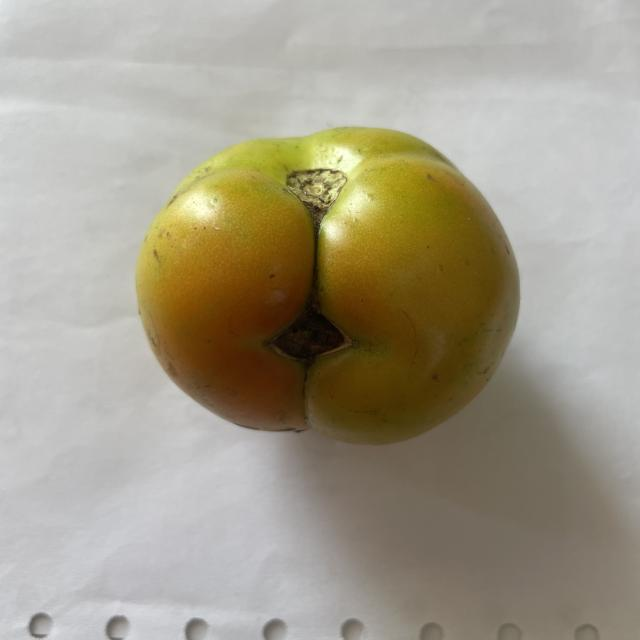fruitworm_bore: (272, 200, 367, 427)
